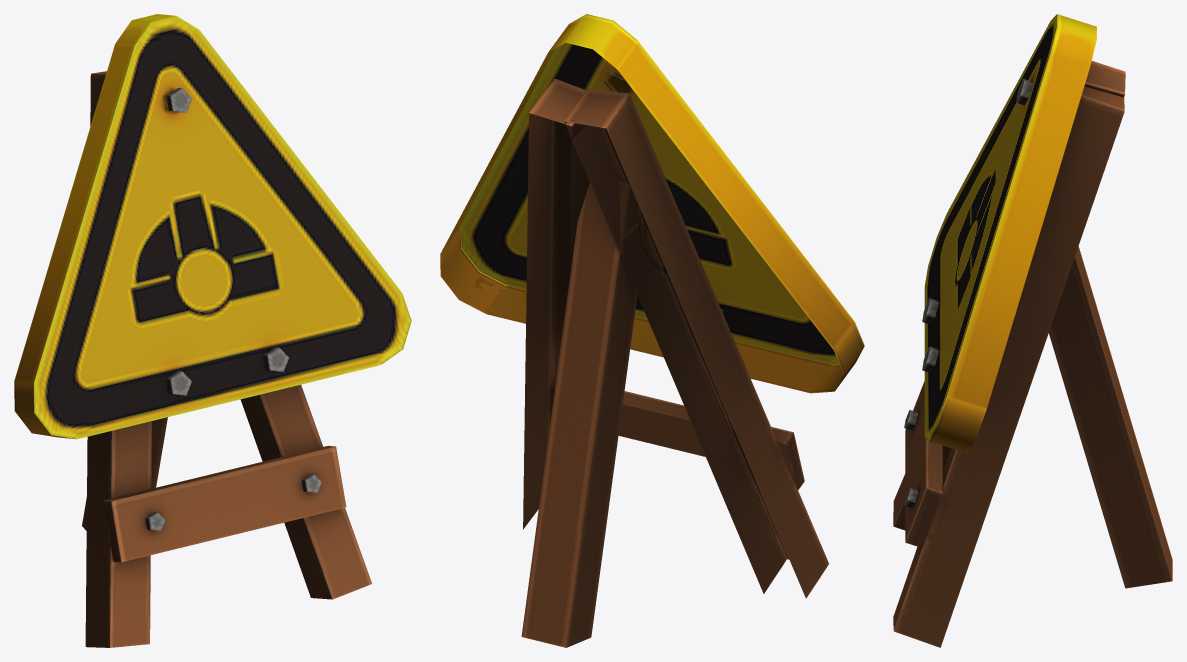
Rendered from sign.fbx.
The picture shows the model from 3 angles, left to right: view 1: azimuth 30°, elevation 25°; view 2: azimuth 150°, elevation 25°; view 3: azimuth 270°, elevation 25°; orthographic projection. The views are drawn at different scales.
Visible parts, largest first — view 1: sign; view 2: sign; view 3: sign.
Part boxes in pixels (bbox=[...]): sign: bbox=[14, 14, 411, 647]; sign: bbox=[440, 14, 864, 647]; sign: bbox=[893, 14, 1172, 647].
Size of the model in its own units: 99.19 by 140 by 62.5.
